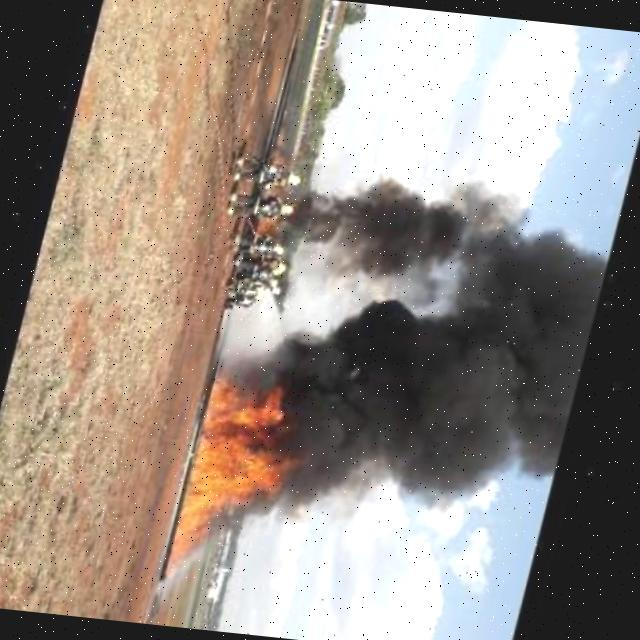fire: (174, 374, 323, 590), (293, 162, 519, 290), (271, 128, 296, 168)
